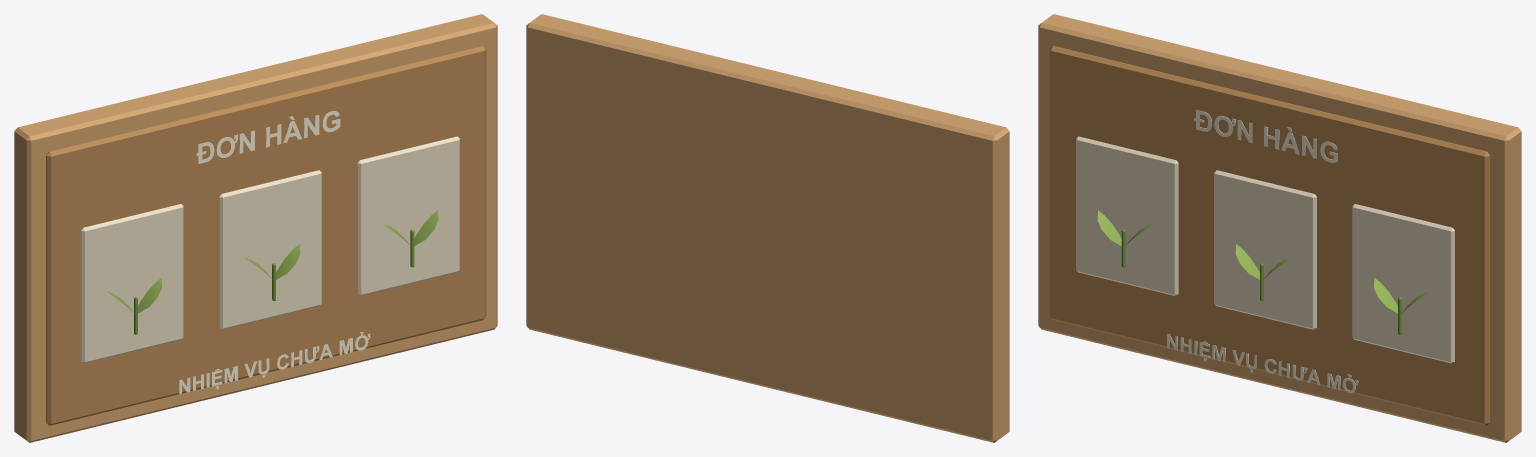
File: order-board.glb
3 views of the same model, side by side, from view 1: azimuth 30°, elevation 25°; view 2: azimuth 150°, elevation 25°; view 3: azimuth 330°, elevation 25° (orthographic).
Visible parts, largest first — view 1: order_board; view 2: order_board; view 3: order_board.
Boxes of the visible parts, x1=… form: order_board: x1=14, y1=14, x2=497, y2=442; order_board: x1=526, y1=14, x2=1009, y2=442; order_board: x1=1038, y1=14, x2=1521, y2=442.
Size of the model in its own units: 2.25 by 1.4 by 0.2615.
